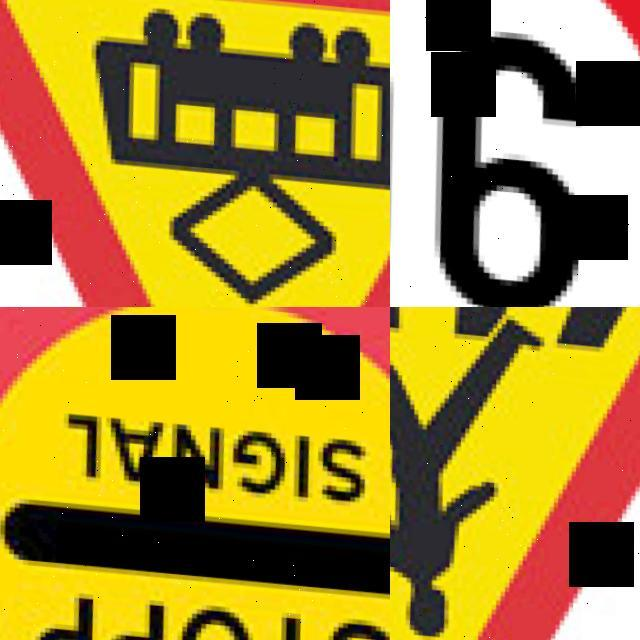116: (0, 307, 390, 640)
146: (0, 0, 390, 307)
167: (390, 307, 640, 640)
speed limit-90: (390, 0, 640, 307)
